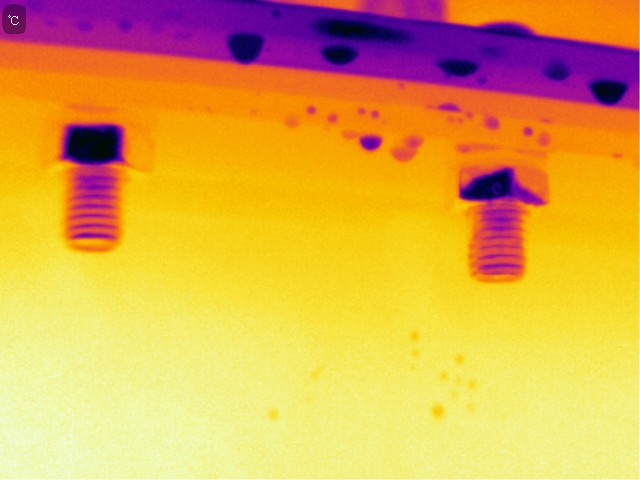Water: (224, 27, 270, 64), (585, 72, 628, 109), (427, 53, 480, 82), (313, 39, 367, 66), (389, 128, 427, 164), (520, 122, 552, 148), (357, 130, 383, 156), (356, 102, 385, 121), (438, 100, 463, 117), (480, 115, 501, 134), (327, 109, 342, 128), (304, 104, 319, 117)
